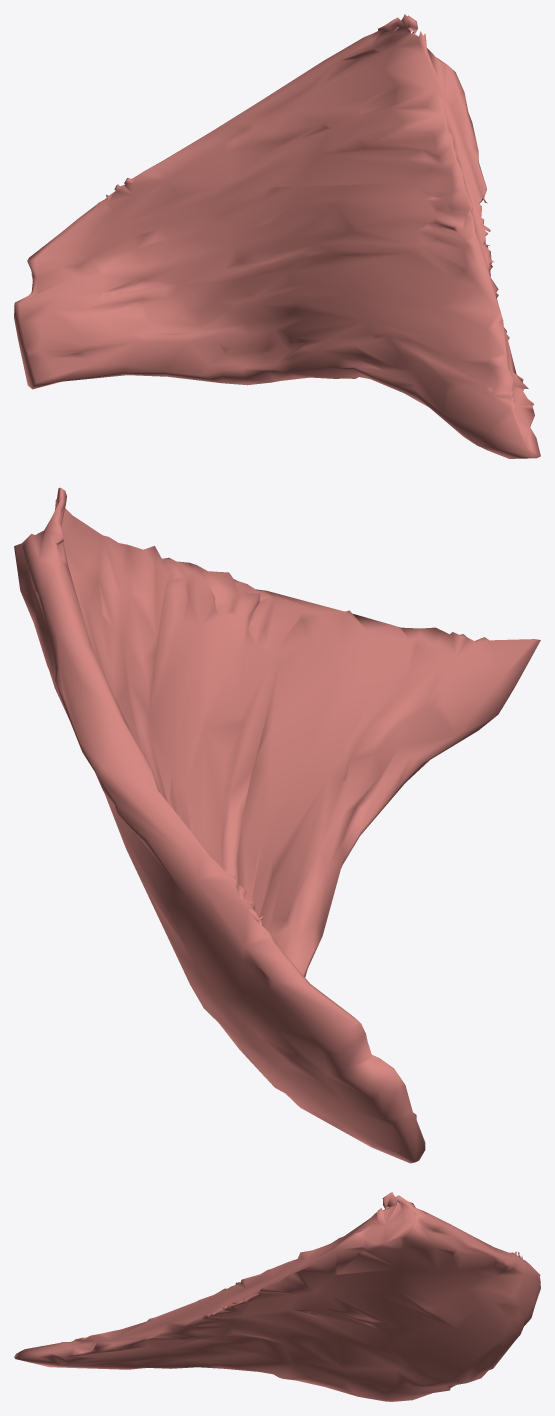
3 renders of one model, top to bottom at view 1: azimuth 30°, elevation 25°; view 2: azimuth 150°, elevation 25°; view 3: azimuth 270°, elevation 25°, orthographic. The views are drawn at different scales.
Visible parts, largest first — view 1: ZA_678e64823020d405; view 2: ZA_678e64823020d405; view 3: ZA_678e64823020d405.
Part boxes in pixels (x1,y1,x2,y2): ZA_678e64823020d405: (14, 14, 540, 458); ZA_678e64823020d405: (14, 487, 540, 1163); ZA_678e64823020d405: (14, 1192, 540, 1401).
Bounding box in the file's own units: 0.0459 × 0.0447 × 0.0757.
